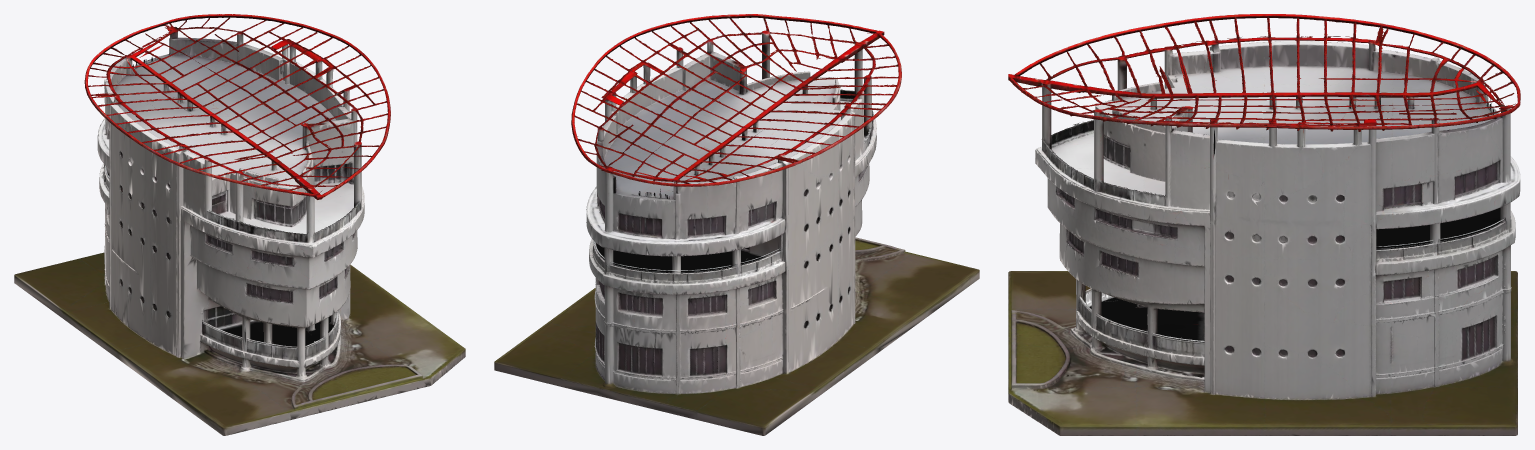
The model's file is local_otimizado.glb.
3 renders of one model, left to right at view 1: azimuth 30°, elevation 25°; view 2: azimuth 150°, elevation 25°; view 3: azimuth 270°, elevation 25°, orthographic. The views are drawn at different scales.
Parts seen in each view (by area): view 1: tmp091a7s45obj; view 2: tmp091a7s45obj; view 3: tmp091a7s45obj.
Boxes of the visible parts, x1,y1,x2,y2 form: tmp091a7s45obj: (14, 14, 465, 435); tmp091a7s45obj: (494, 14, 979, 435); tmp091a7s45obj: (1008, 14, 1520, 435).
Size of the model in its own units: 0.7185 by 0.646 by 1.
Materials: 1 (1 with a texture image).
